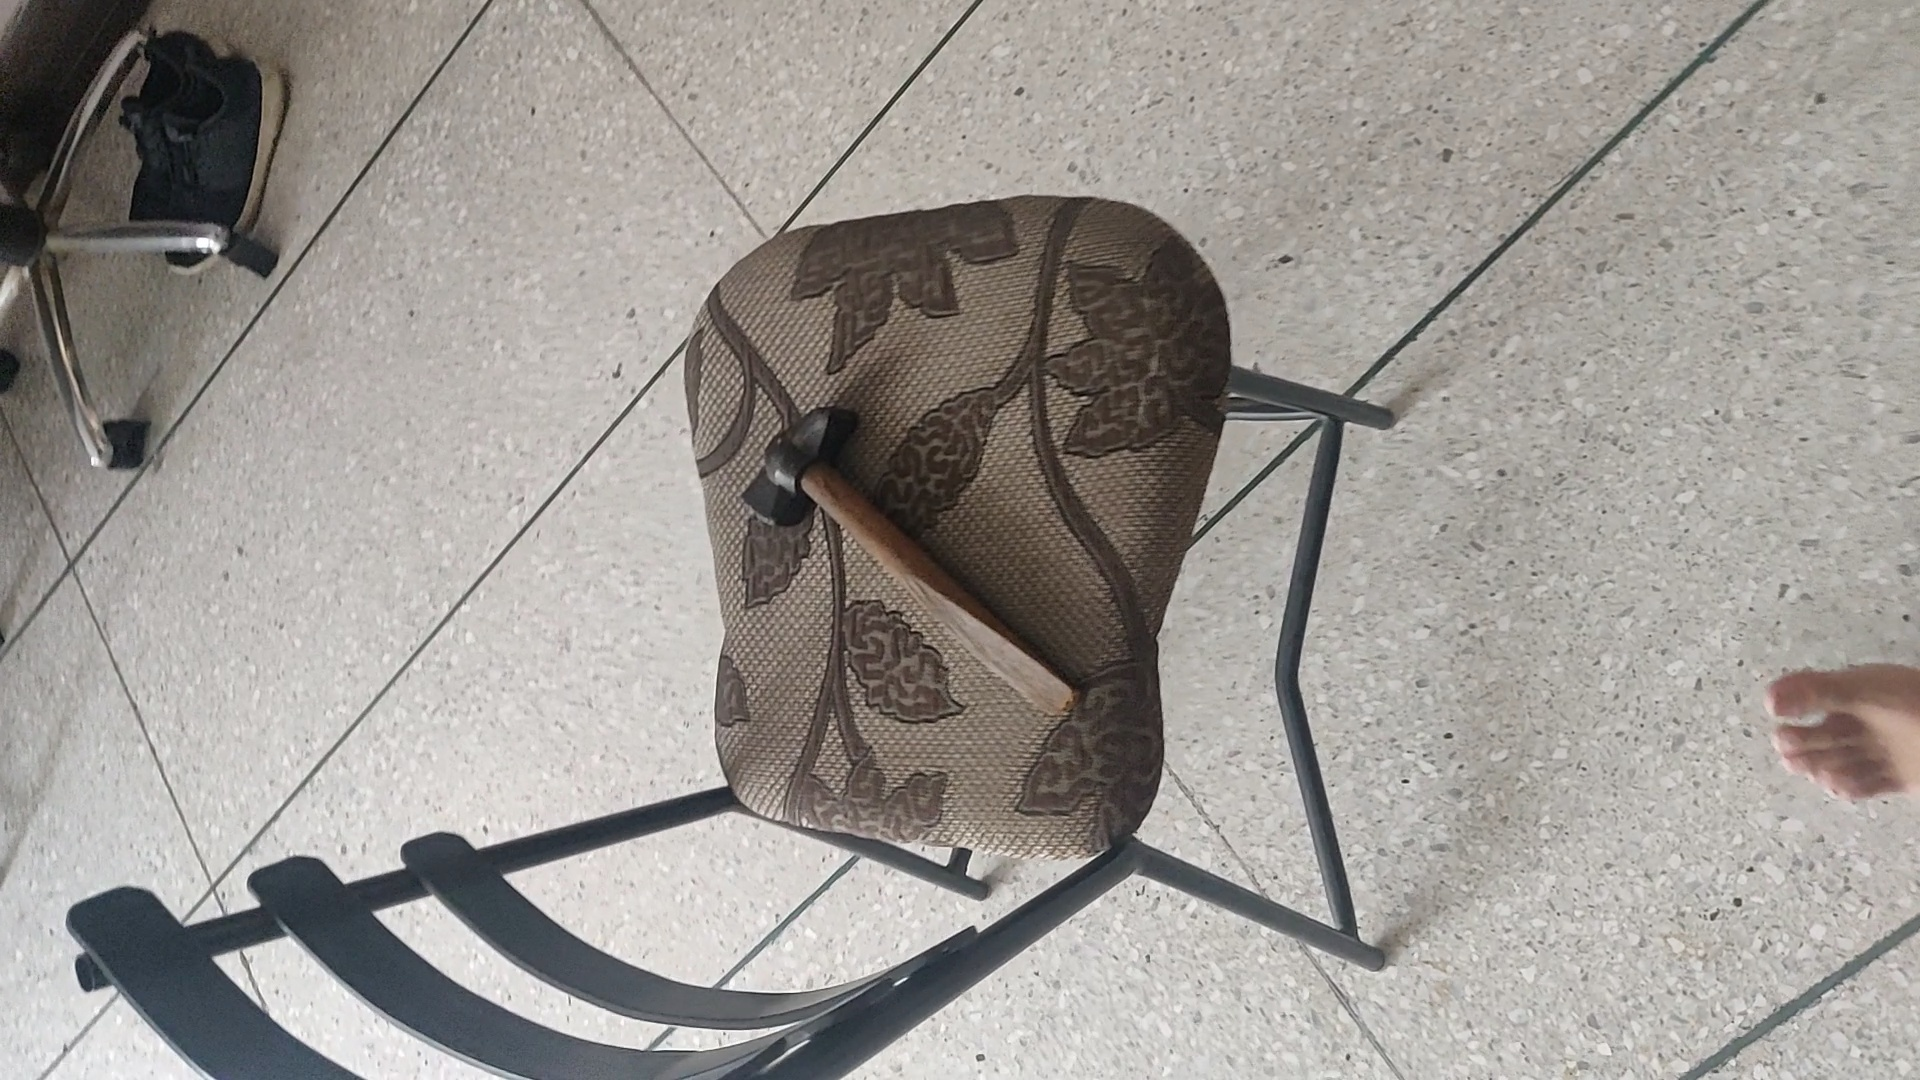hammer: (738, 404, 1073, 721)
